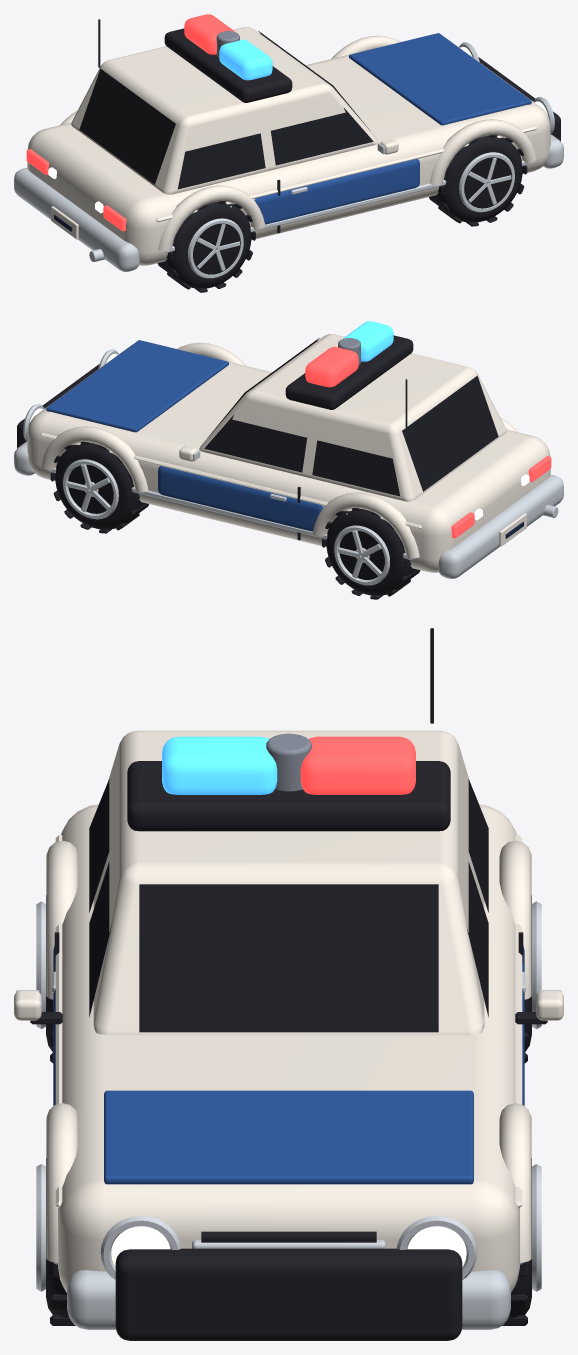
The model's file is police_car.glb.
The picture shows the model from 3 angles, top to bottom: view 1: azimuth 30°, elevation 25°; view 2: azimuth 150°, elevation 25°; view 3: azimuth 270°, elevation 25°; orthographic projection. The views are drawn at different scales.
Parts seen in each view (by area): view 1: police_car, beacon; view 2: police_car, beacon; view 3: police_car, beacon.
Part boxes in pixels (<box>): police_car: <box>14,19,563,292</box>; beacon: <box>184,14,272,80</box>; police_car: <box>14,334,563,599</box>; beacon: <box>305,321,393,387</box>; police_car: <box>14,628,563,1340</box>; beacon: <box>162,733,415,794</box>.
Size of the model in its own units: 4.59 by 1.94 by 2.38.
Materials: 1 (1 with a texture image).
